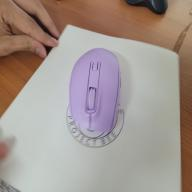mouse: (66, 38, 128, 134)
